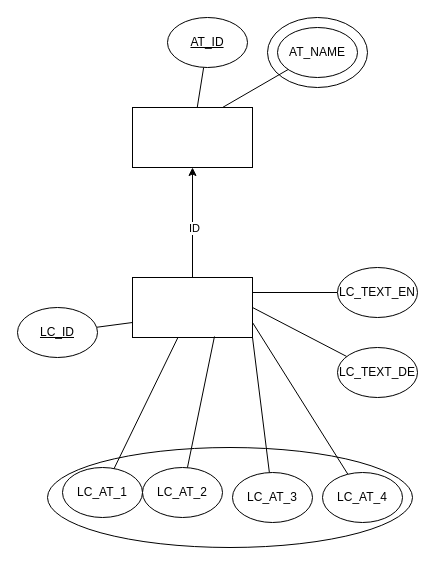
Some shapes in this 435 by 565 pixel diagram are drawn without their labels. The shapes that lost their labels are listed below. From the top down, each one's box as (x1, y1, x2, y2) in pixels, then its label:
(132, 106, 252, 168): Attribute
(132, 276, 252, 338): Localization
